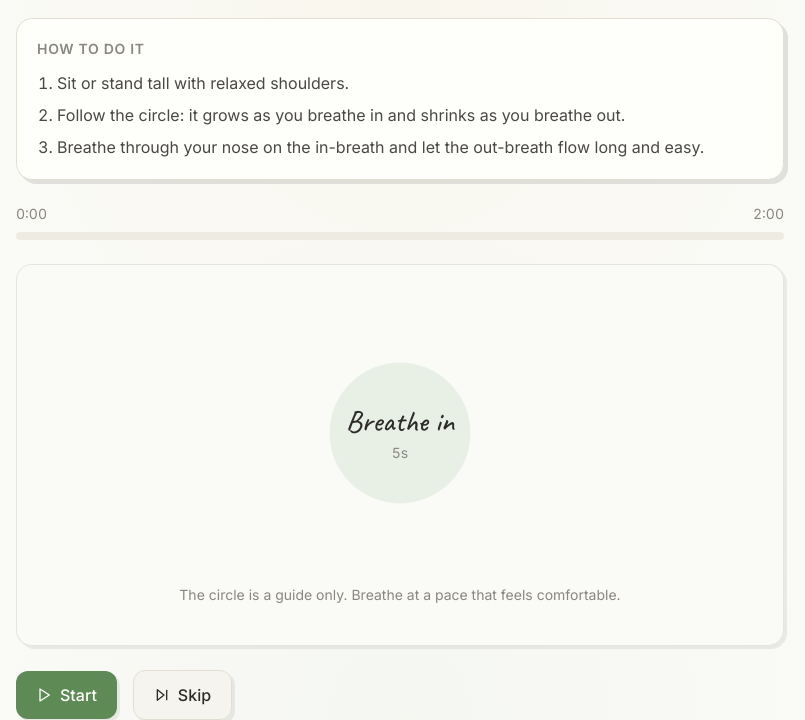
RoutinePlayer › advances after a finished step and lists the outcome at the end
(page scrolled)
Click the button "Skip".
click(182, 695)  # box [133,670,232,719]
(page scrolled)
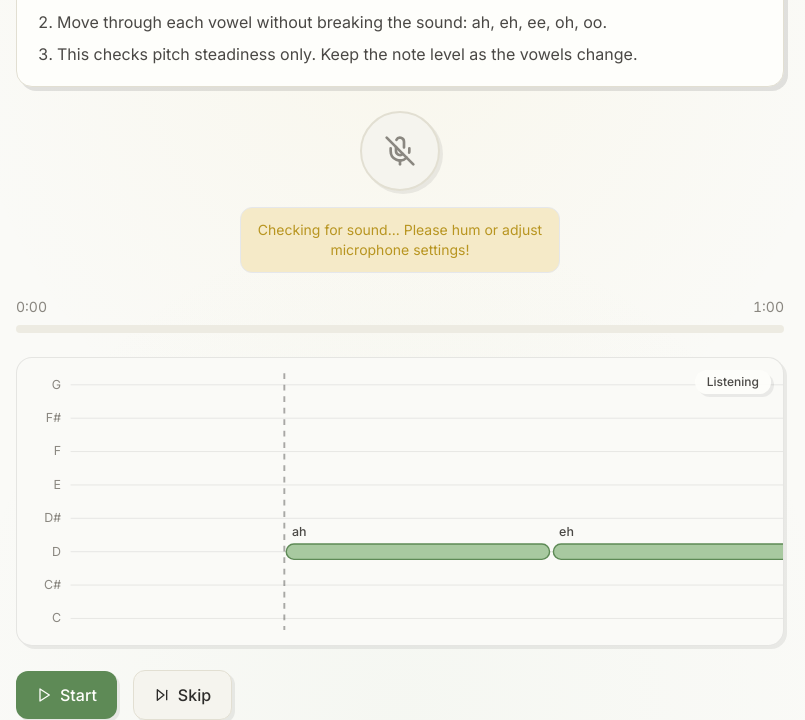
Click the button "Skip".
click(182, 695)  # box [133,670,232,719]
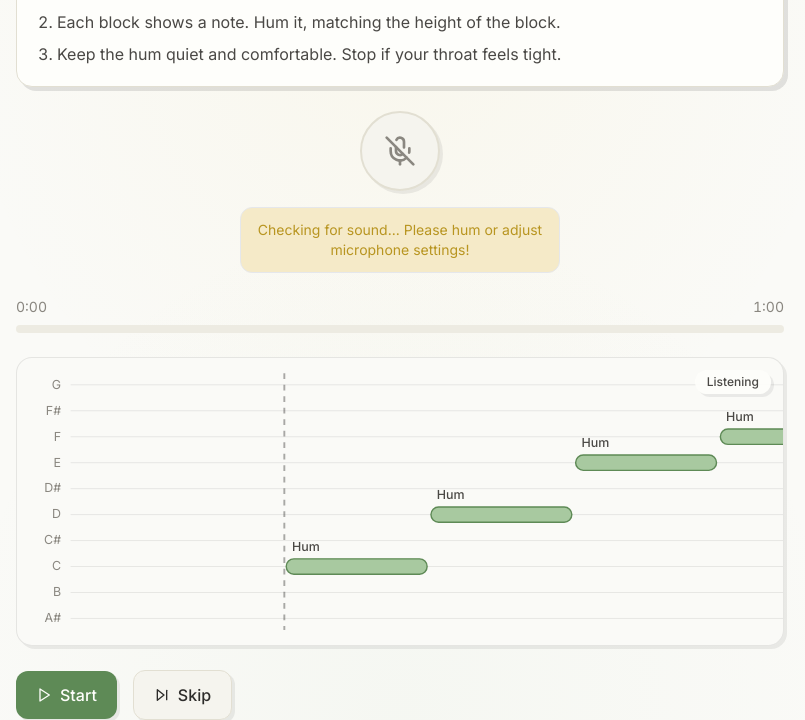
Click the button "Skip".
click(182, 695)  # box [133,670,232,719]
(page scrolled)
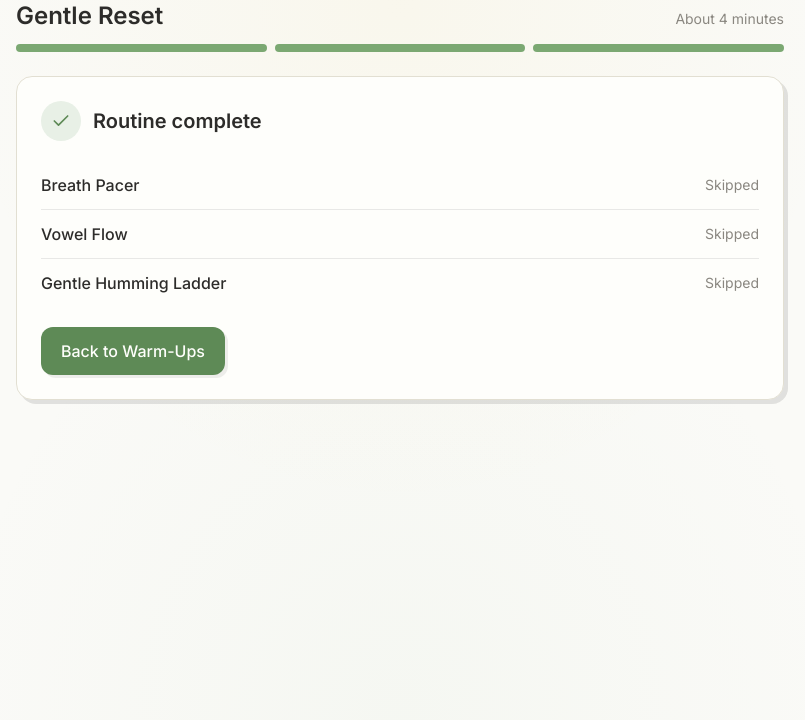
expect the heading "Routine complete" is shown: met, box [93,107,262,135]
expect the text "Skipped" is shown 3 times: met, box [705,175,759,195]; [705,224,759,244]; [705,273,759,293]
